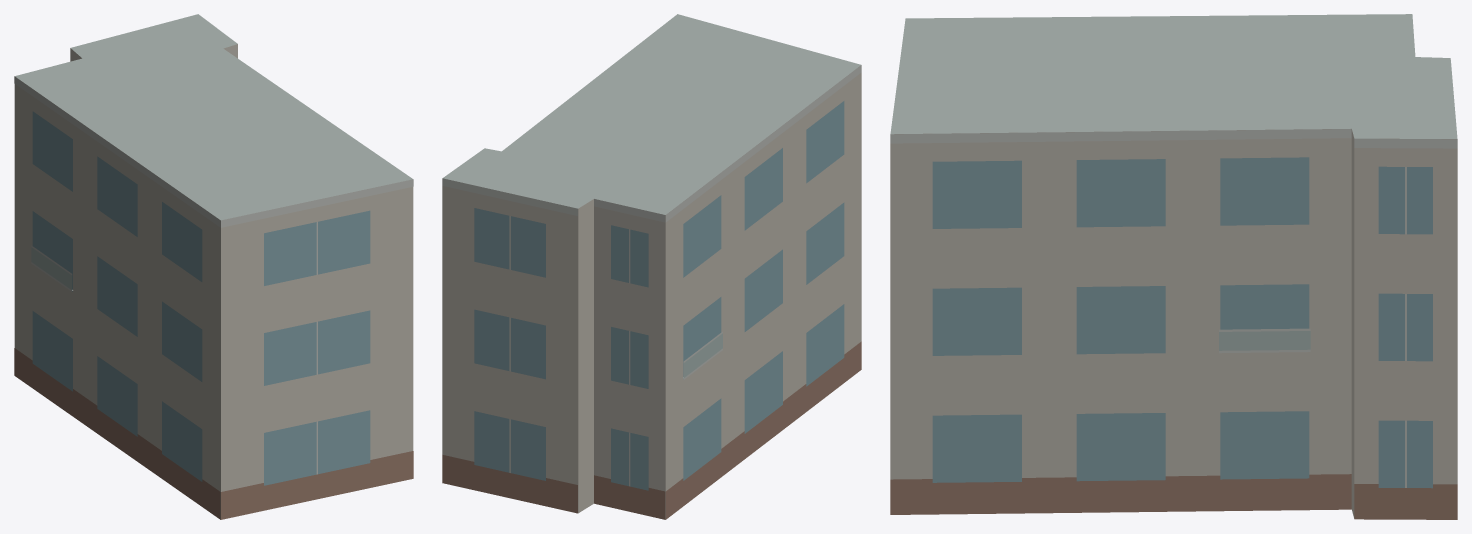
File: survey-upis-32925625.glb
3 views of the same model, side by side, from view 1: azimuth 30°, elevation 25°; view 2: azimuth 150°, elevation 25°; view 3: azimuth 270°, elevation 25° (orthographic). The views are drawn at different scales.
Parts seen in each view (by area): view 1: survey-upis-32925625.tmp; view 2: survey-upis-32925625.tmp; view 3: survey-upis-32925625.tmp.
Part boxes in pixels (x1,y1,x2,y2): survey-upis-32925625.tmp: (14, 14, 413, 519); survey-upis-32925625.tmp: (442, 14, 861, 519); survey-upis-32925625.tmp: (890, 14, 1457, 519).
Bounding box in the file's own units: 6.93 × 9.8 × 13.24.
